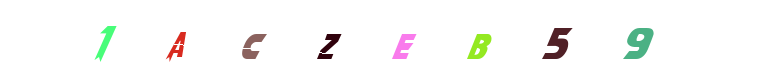1: (138, 0, 218, 80)
5: (435, 0, 515, 80)
9: (440, 0, 520, 80)
A: (236, 0, 316, 80)
B: (433, 0, 513, 80)
C: (325, 0, 405, 80)
E: (363, 0, 443, 80)
Z: (348, 0, 428, 80)
